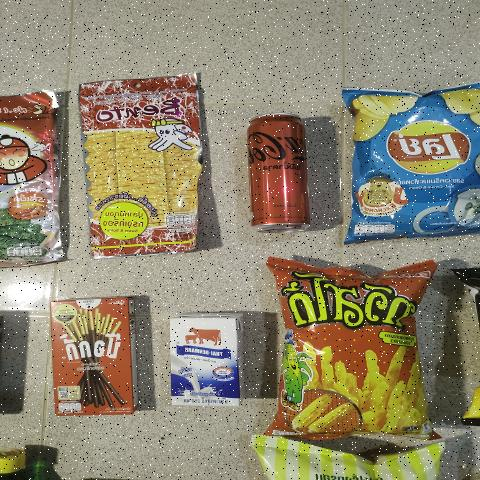bento_red: (84, 76, 200, 253)
coke_red: (236, 111, 305, 232)
lay_blue: (353, 94, 480, 235)
pokki: (54, 297, 136, 410)
thai_denmark: (162, 310, 255, 410)
twisco: (272, 270, 419, 428)
